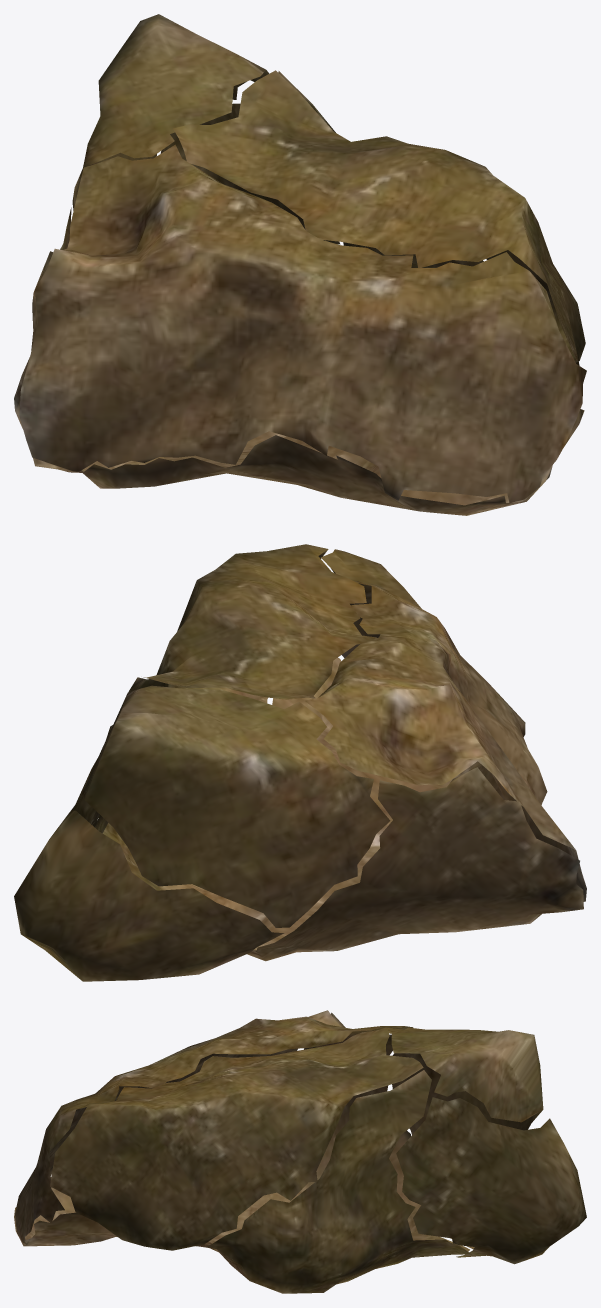
Rendered from rock_moss_set_01_rock06.glb.
3 renders of one model, top to bottom at view 1: azimuth 30°, elevation 25°; view 2: azimuth 150°, elevation 25°; view 3: azimuth 270°, elevation 25°, orthographic. The views are drawn at different scales.
Parts seen in each view (by area): view 1: rock_moss_set_01_rock06; view 2: rock_moss_set_01_rock06; view 3: rock_moss_set_01_rock06.
Part boxes in pixels (<box>): rock_moss_set_01_rock06: <box>14,14,586,515</box>; rock_moss_set_01_rock06: <box>14,544,586,981</box>; rock_moss_set_01_rock06: <box>14,1010,586,1293</box>.
Bounding box in the file's own units: 2.09 × 1.23 × 2.75.
1 material, 1 textured.
